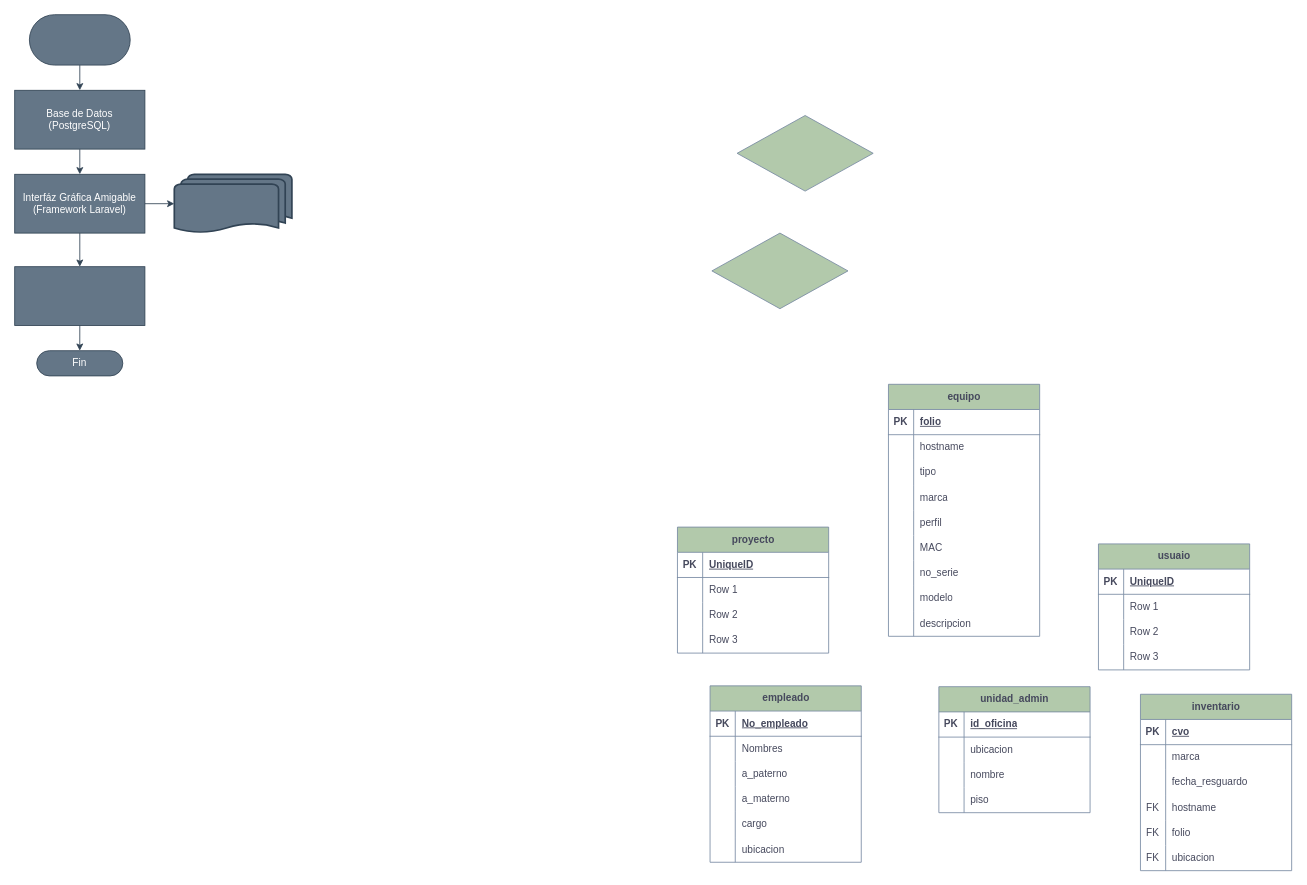
This 1307x885 diagram has some shape labels left out. The shapes that lost their labels are listed below. From the top down, each one's centre as x and y in pixels, then its label:
At pixel 79 39: "SISTEMA INTERNO DISAHP".
At pixel 232 203: "Generar Reportes Automáticos".
At pixel 79 296: "Registro de Clientes y Proyectos".
